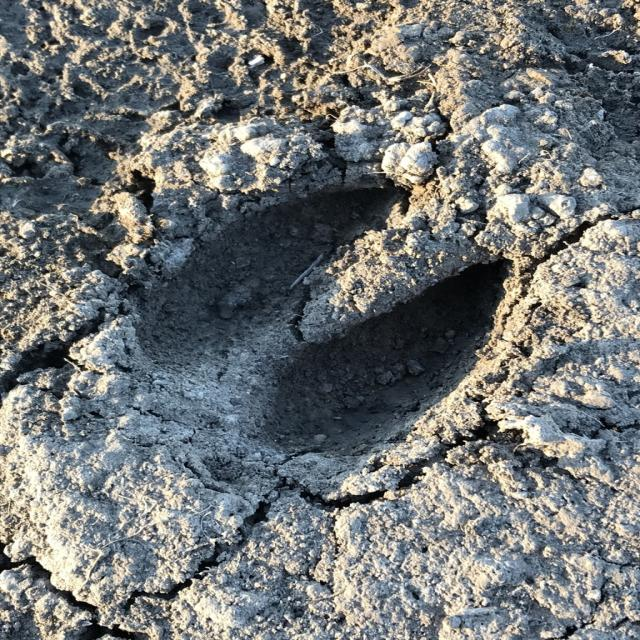deer: (147, 179, 523, 455)
